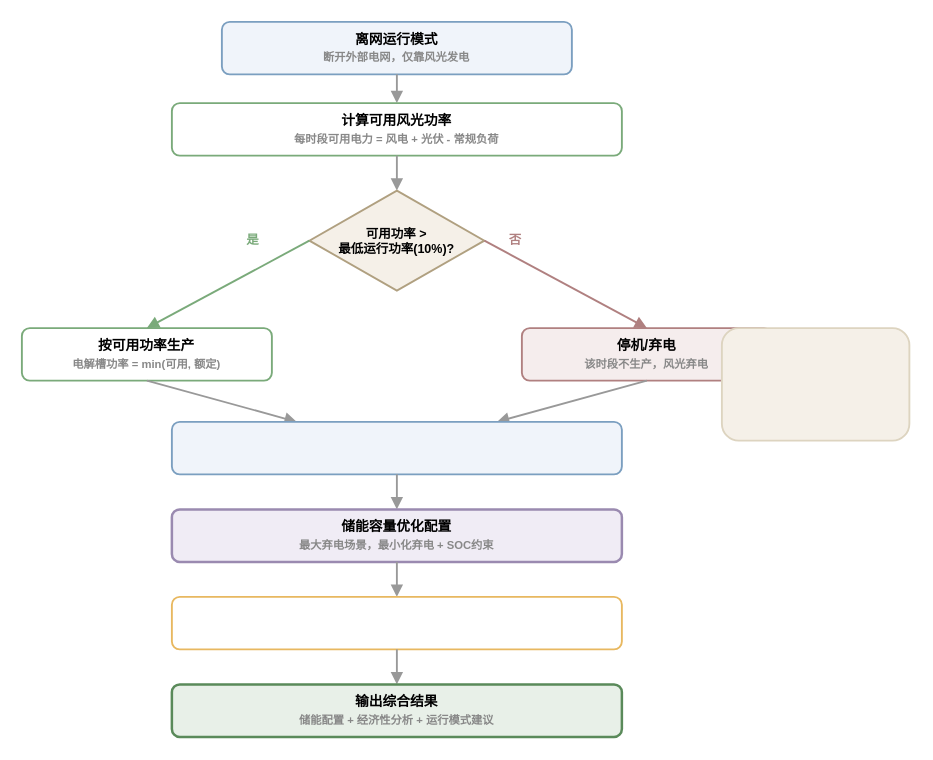
Image size: 933x760. Some labels were removed from this diagram. The shapes that lost their labels are listed below. From the top down, each one's box as (x1, y1, x2, y2) in pixels, then its label:
(720, 327, 910, 441): 工具与方法 线性规划(LP) 储能 SOC 模型 经济性对比分析
(170, 420, 622, 475): 统计24场景日产量与弃电量 全年制氨总量 + 年平均产能利用率
(170, 595, 622, 650): 经济性对比分析 离网 vs 联网：全年吨氨成本 + 系统支撑成本
